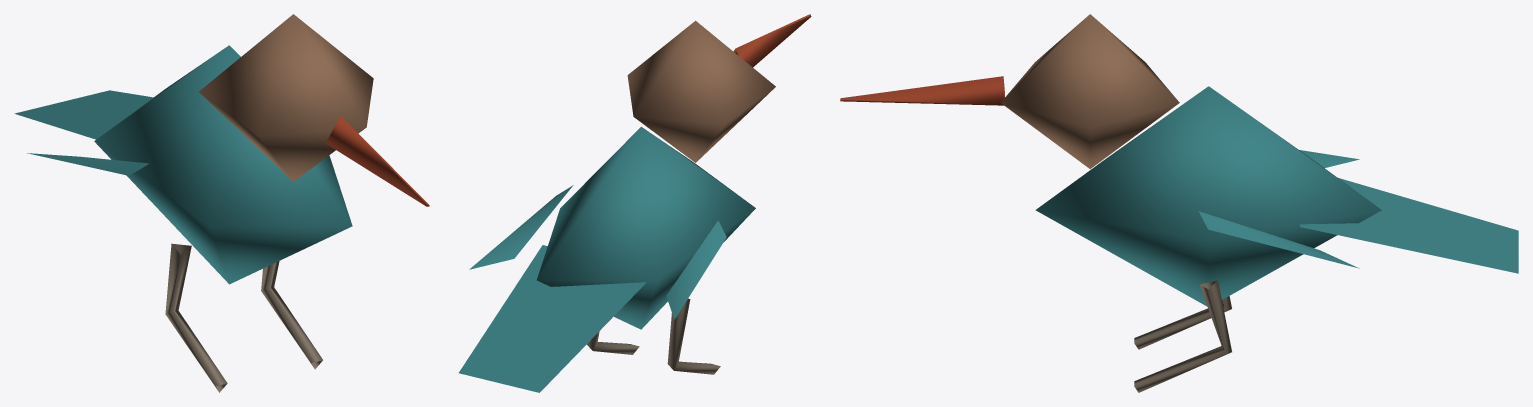
File: kingfisher-1.glb
3 renders of one model, left to right at view 1: azimuth 30°, elevation 25°; view 2: azimuth 150°, elevation 25°; view 3: azimuth 270°, elevation 25°, orthographic. The views are drawn at different scales.
Parts seen in each view (by area): view 1: kingfisher; view 2: kingfisher; view 3: kingfisher.
Boxes of the visible parts, box(x1,y1,x2,y2) form: kingfisher: box(14, 14, 429, 392); kingfisher: box(459, 14, 811, 392); kingfisher: box(840, 14, 1518, 392).
Size of the model in its own units: 0.142 by 0.2163 by 0.3721.
